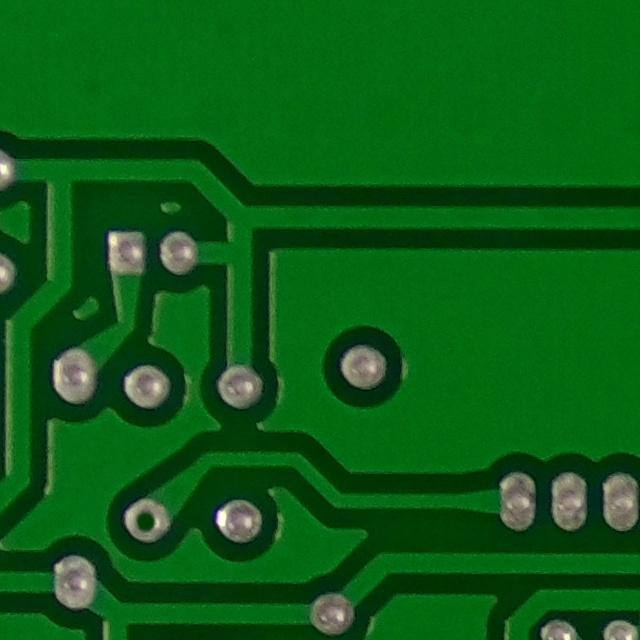missing_hole: (122, 494, 177, 552)
